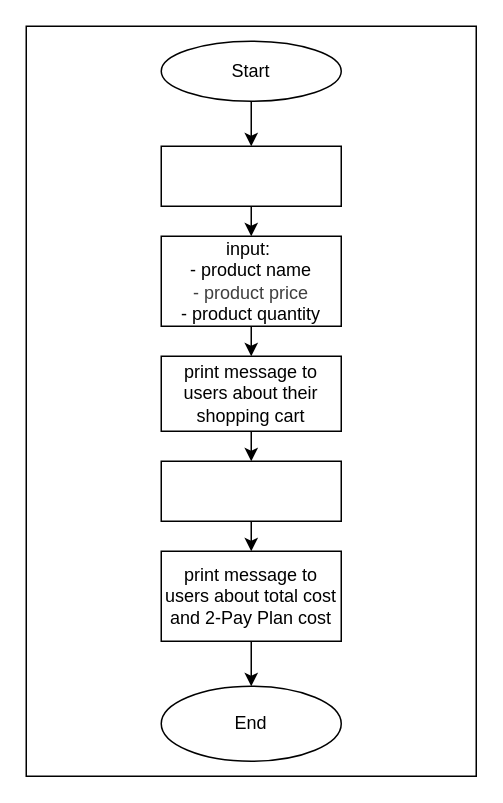
Some shapes in this 503 by 803 pixel diagram are drawn without their labels. The shapes that lost their labels are listed below. From the top down, each one's centre as x and y in pixels, then its label:
pixel 250 175: print welcoming message
pixel 250 490: calculate: - total cost - 2-Pay Plan cost
